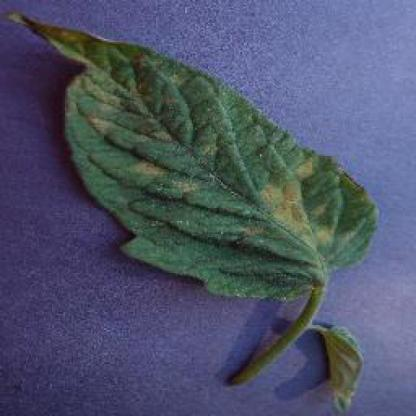Tomato_Leaf_Mold: (3, 13, 380, 300)
